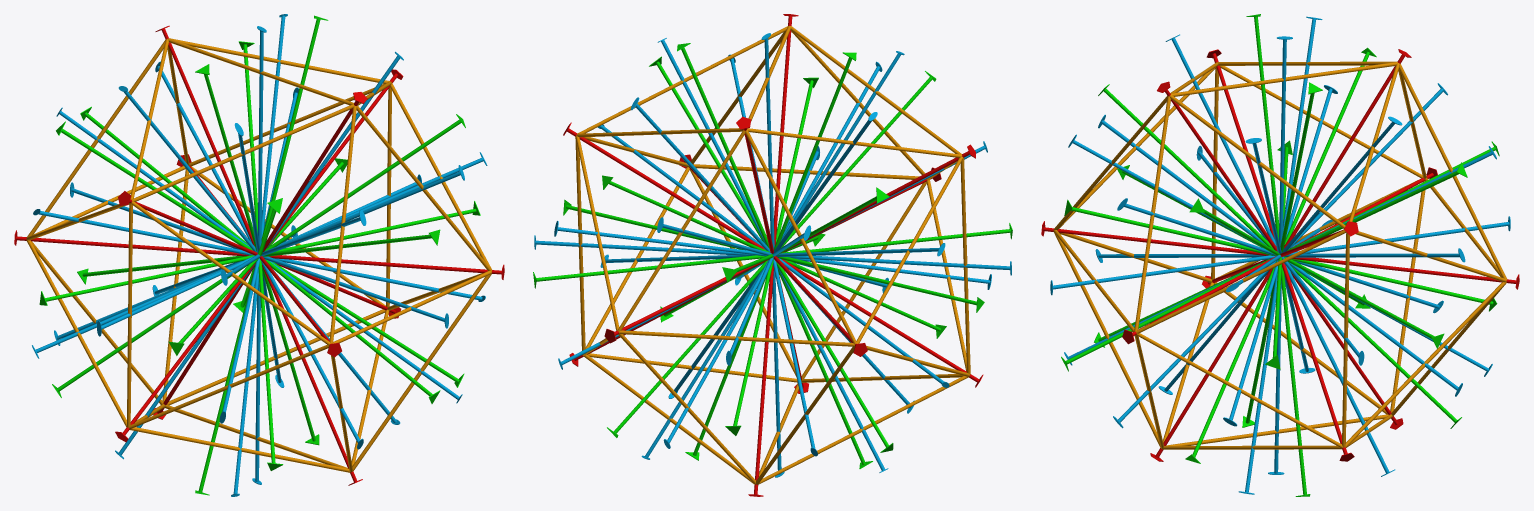
The model's file is 1OHG_axis.glb.
3 views of the same model, side by side, from view 1: azimuth 30°, elevation 25°; view 2: azimuth 150°, elevation 25°; view 3: azimuth 270°, elevation 25° (orthographic).
Bounding box in the file's own units: 787 × 786 × 773.
